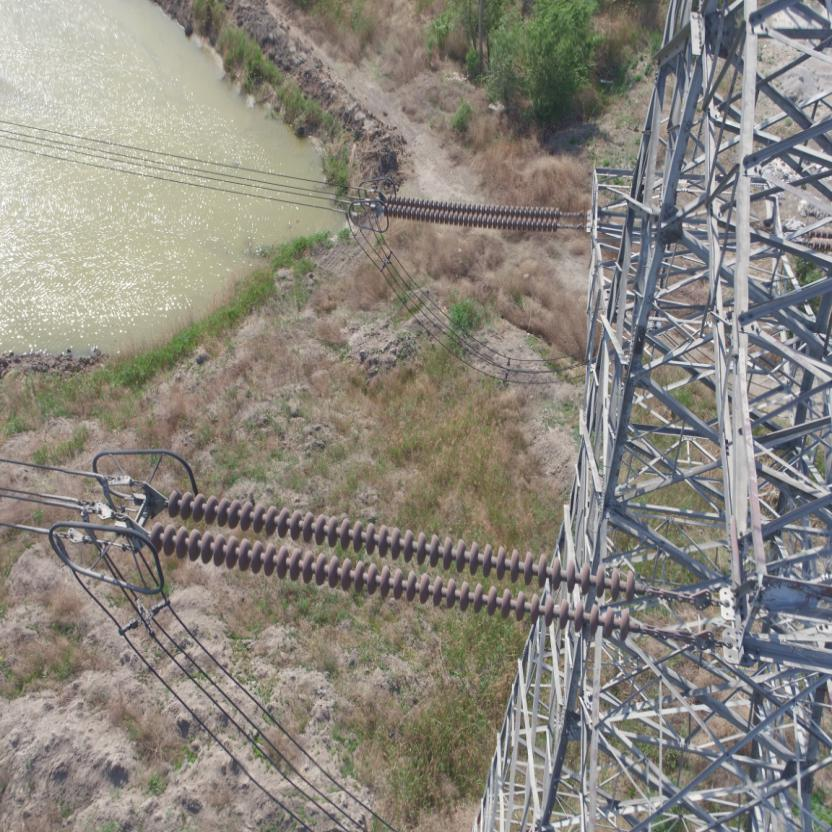insulator: (142, 485, 668, 642), (380, 189, 570, 233)
